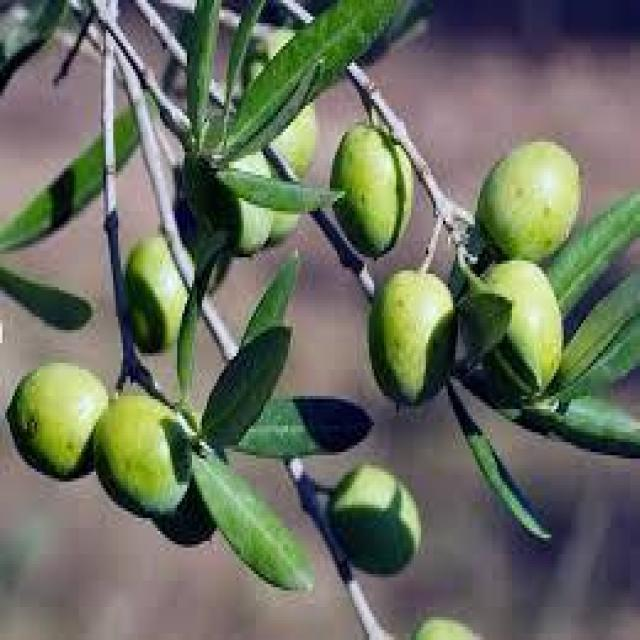Anthracnose: (5, 363, 108, 478), (475, 138, 569, 260), (369, 270, 448, 410), (329, 122, 414, 247)
